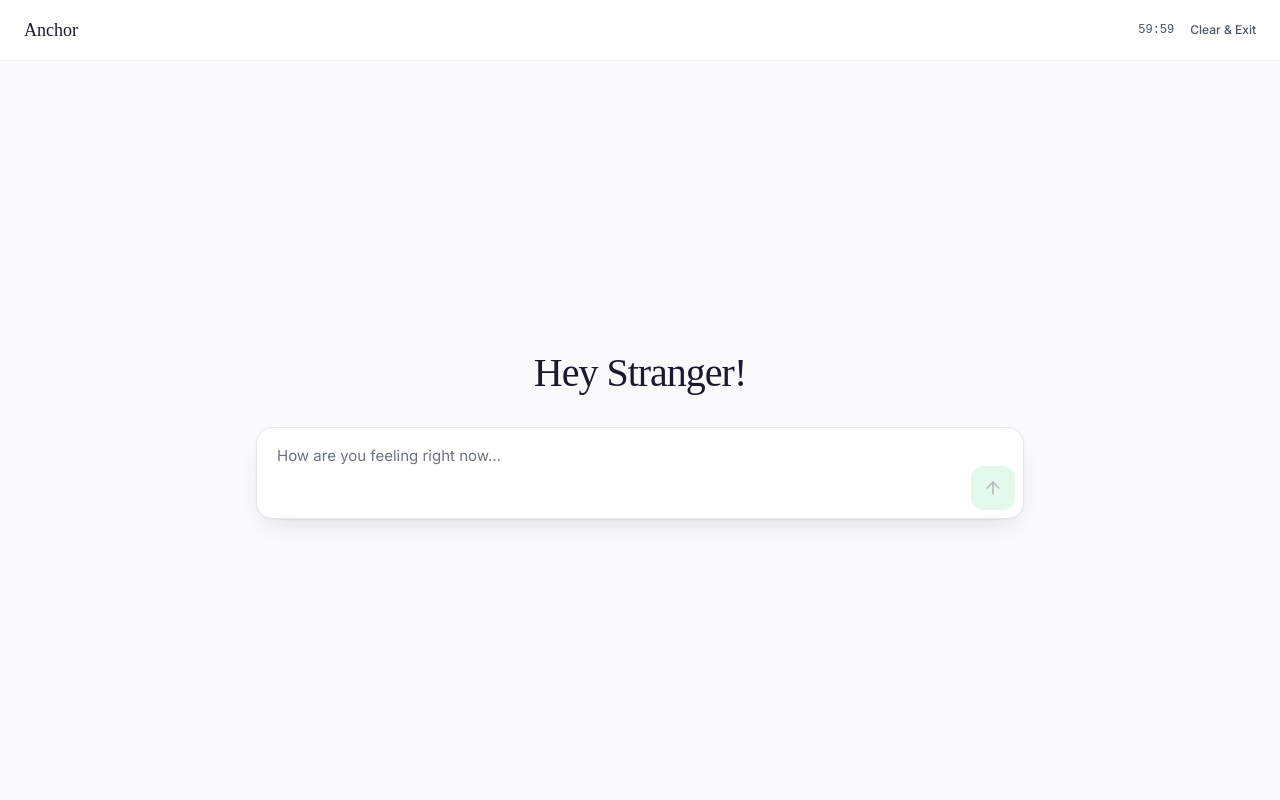
Scenario: Chat – Chat Transition › hides welcome screen and shows messages after user sends a message
The width and height of the screenshot is (1280, 800).
In the text box with placeholder "How are you feeling right now...": (614, 472) [265,436,963,510], type "I feel anxious"
Then press Enter
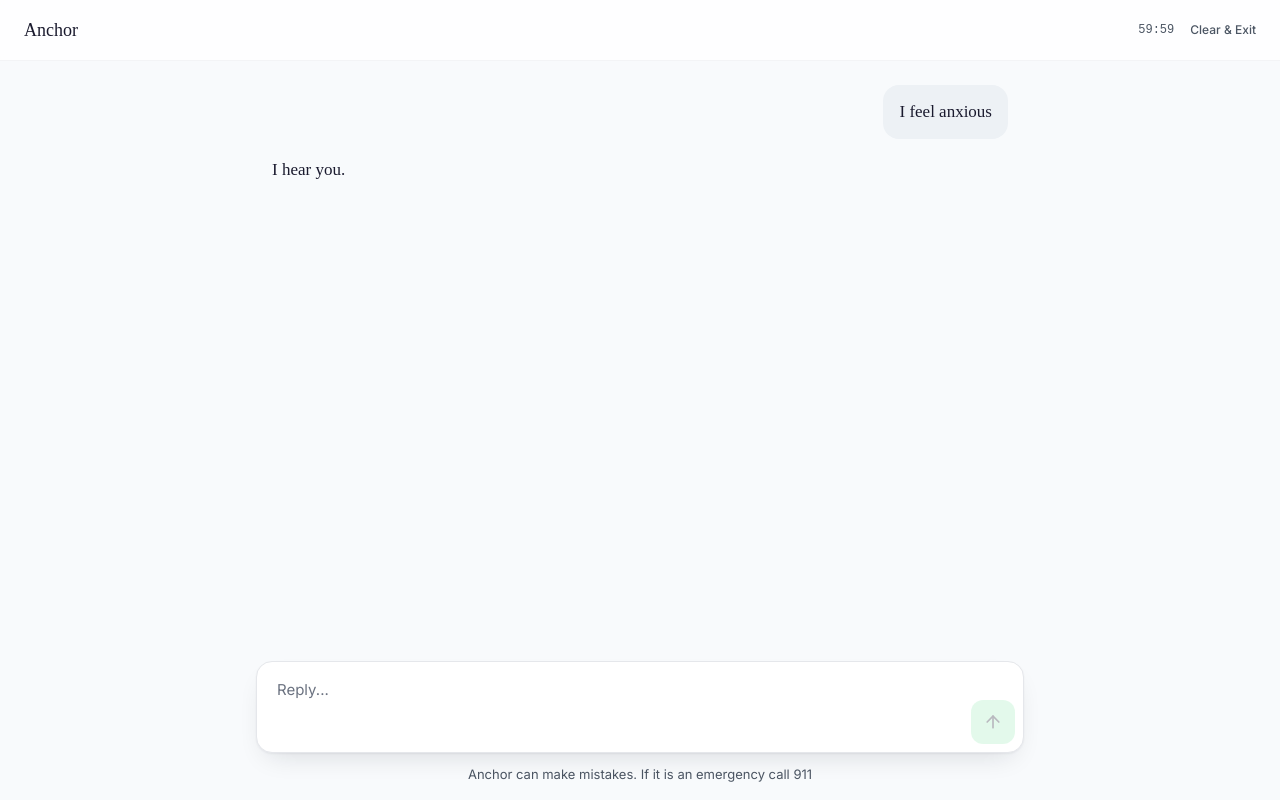
Result: the heading "Hey Stranger!" is gone
Result: the text "I feel anxious" is shown at [900,97,992,127]
